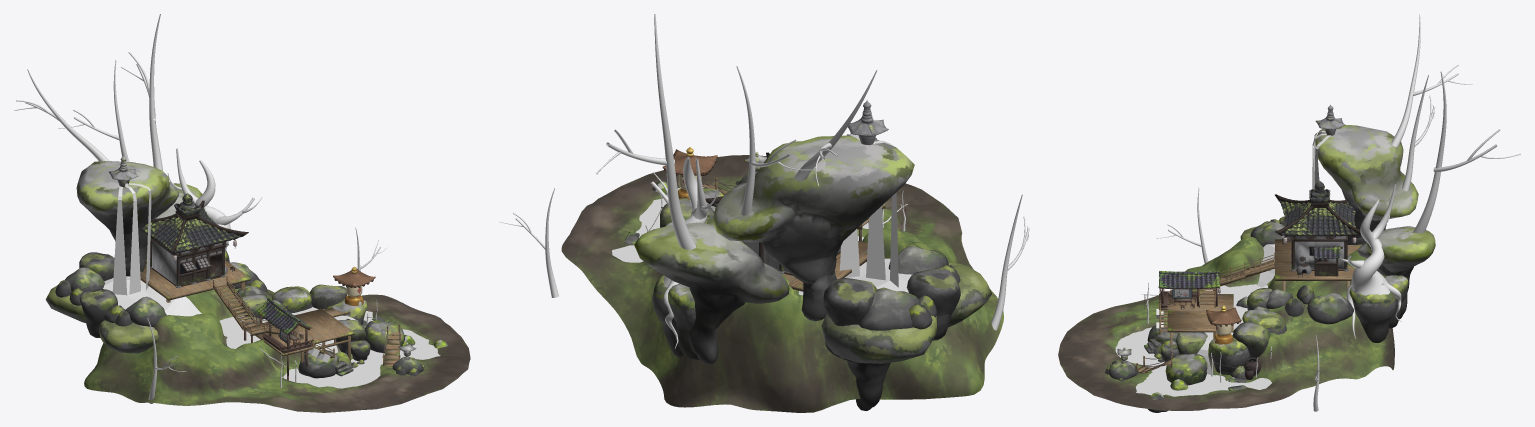
The model's file is Concept-Final.fbx.
The picture shows the model from 3 angles, left to right: view 1: azimuth 30°, elevation 25°; view 2: azimuth 150°, elevation 25°; view 3: azimuth 270°, elevation 25°; orthographic projection. The views are drawn at different scales.
Parts seen in each view (by area): view 1: Plane.009, Cube.246, Plane.018, Cube.156, Cube.054, Cube.414, Cube.342, Plane.037, Cube.343, Plane.027, Plane.010, NurbsPath.035 (+17 smaller); view 2: Plane.009, Cube.246, Cube.247, Cube.350, Cube.351, Cube.343, NurbsPath.035, Cube.352, Cube.342, Cube.340, Plane.034, Cube.344 (+14 smaller); view 3: Plane.009, Cube.246, Plane.018, Cube.247, Cube.156, Cube.054, NurbsPath.004, Cube.339, Cube.414, Cube.347, Cube.103, Cube.026 (+14 smaller).
Boxes of the visible parts, box(x1,y1,x2,y2) form: Plane.009: box(84, 258, 470, 412); Cube.246: box(76, 161, 179, 276); Plane.018: box(282, 311, 440, 388); Cube.156: box(141, 206, 241, 252); Cube.054: box(255, 308, 354, 356); Cube.414: box(140, 260, 250, 300); Cube.342: box(99, 320, 158, 353); Plane.037: box(103, 276, 201, 316); Cube.343: box(79, 289, 117, 337); Plane.027: box(112, 186, 127, 295); Plane.010: box(219, 307, 357, 353); NurbsPath.035: box(149, 14, 162, 170); Plane.009: box(561, 155, 1003, 412); Cube.246: box(713, 135, 914, 321); Cube.247: box(634, 222, 789, 364); Cube.350: box(821, 314, 936, 410); Cube.351: box(823, 278, 876, 326); Cube.343: box(906, 268, 960, 340); NurbsPath.035: box(654, 14, 696, 249); Cube.352: box(858, 287, 920, 330); Cube.342: box(948, 262, 991, 327); Cube.340: box(668, 283, 719, 359); Plane.034: box(866, 138, 885, 280); Cube.344: box(888, 245, 948, 274); Plane.009: box(1058, 236, 1394, 410); Cube.246: box(1315, 125, 1418, 244); Plane.018: box(1115, 327, 1271, 396); Cube.247: box(1357, 226, 1435, 318); Cube.156: box(1279, 200, 1358, 235); Cube.054: box(1159, 294, 1233, 332); NurbsPath.004: box(1351, 200, 1389, 295); Cube.339: box(1349, 287, 1396, 342); Cube.414: box(1275, 239, 1362, 280); Cube.347: box(1307, 293, 1353, 324); Cube.103: box(1208, 335, 1250, 374); Cube.026: box(1165, 353, 1207, 385).
Bounding box in the file's own units: 2512 × 2243 × 3166.
